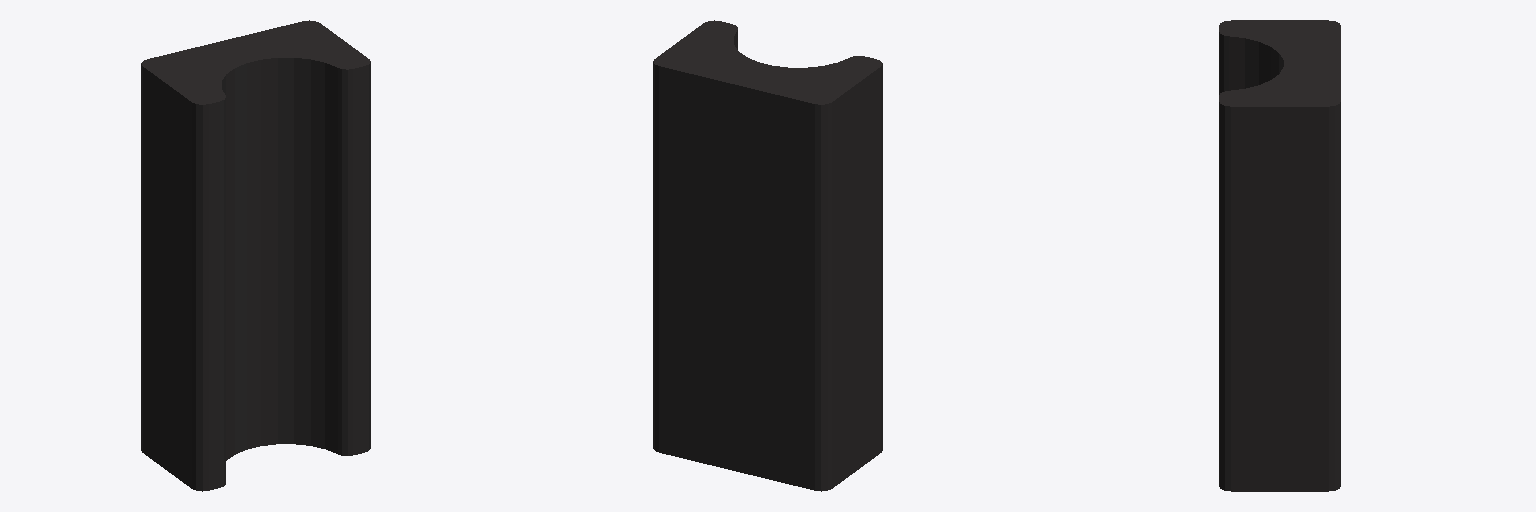
URDF robot description (Medium_Short_Arch_Yellow):
<?xml version="1.0"?>
<robot name="Medium_Short_Arch_Yellow">
    <link name="Medium_Short_Arch_Yellow">
        <visual>
            <geometry>
                <mesh filename="../mesh/factory_insertion/Medium_Short_Arch_Yellow.obj" scale="0.001 0.001 0.001"/>
            </geometry>
            <material name="Yellow">
              <color rgba="0.22 0.21 0.21 0.0"/>
            </material>
        </visual>
        <collision>
            <geometry>
                <mesh filename="../mesh/factory_insertion/Medium_Short_Arch_Yellow.obj" scale="0.001 0.001 0.001"/>
            </geometry>
            <sdf resolution="512"/>
        </collision>
    </link>
</robot>

--- Render facts (derived) ---
Views: 3 orthographic renders of the robot side by side, from view 1: azimuth 30°, elevation 25°; view 2: azimuth 150°, elevation 25°; view 3: azimuth 270°, elevation 25°.
Model Medium_Short_Arch_Yellow with 1 links and 0 joints (none), rooted at Medium_Short_Arch_Yellow, posed all joints at 0.
Links seen in each view (by area): view 1: Medium_Short_Arch_Yellow; view 2: Medium_Short_Arch_Yellow; view 3: Medium_Short_Arch_Yellow.
Link boxes in pixels (x1=…): Medium_Short_Arch_Yellow: x1=141, y1=20, x2=370, y2=491; Medium_Short_Arch_Yellow: x1=653, y1=20, x2=882, y2=491; Medium_Short_Arch_Yellow: x1=1219, y1=20, x2=1340, y2=491.
Size in the robot's own frame: 0.048 by 0.0288 by 0.1 metres.
1 mesh visuals loaded from 1 distinct referenced files (1 OBJ).
